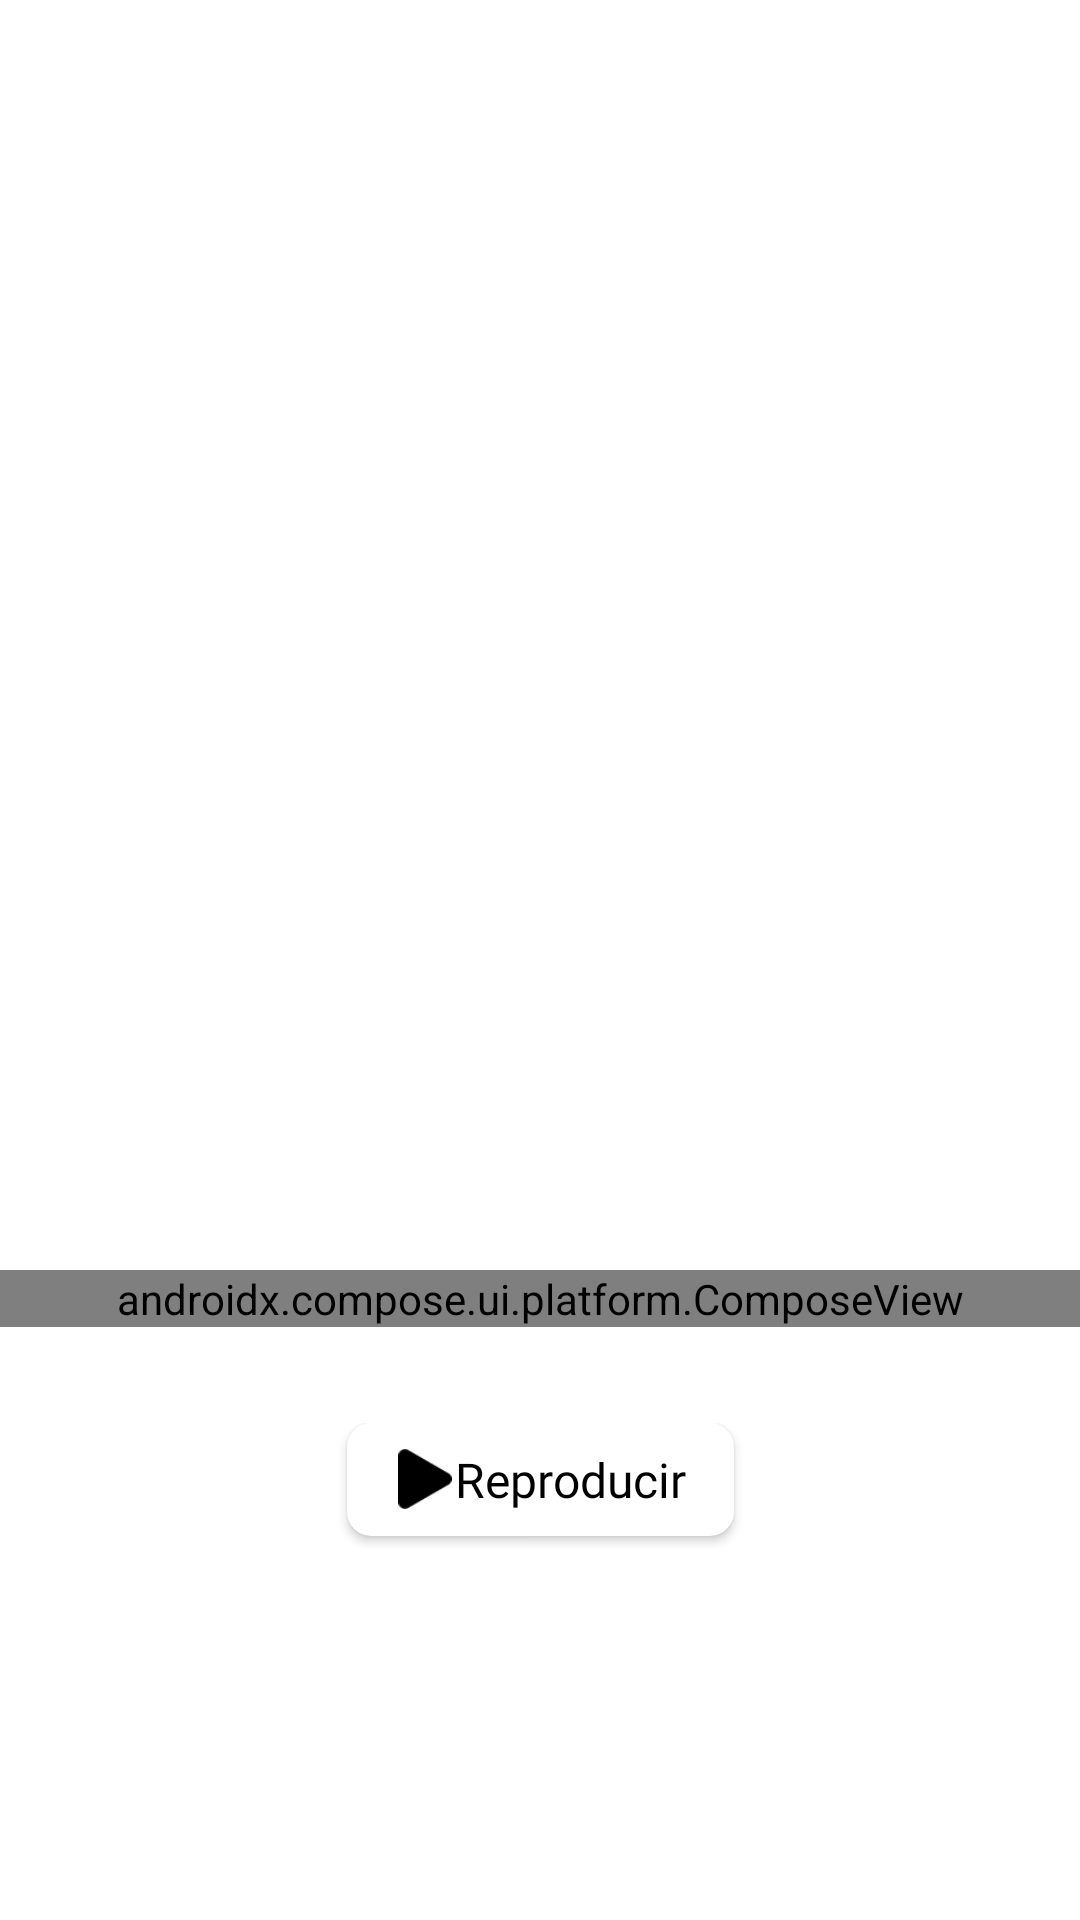

Where to tap for icons on this 1080*1920 app screen, as [x,y]:
arrow play: [425,1479]
